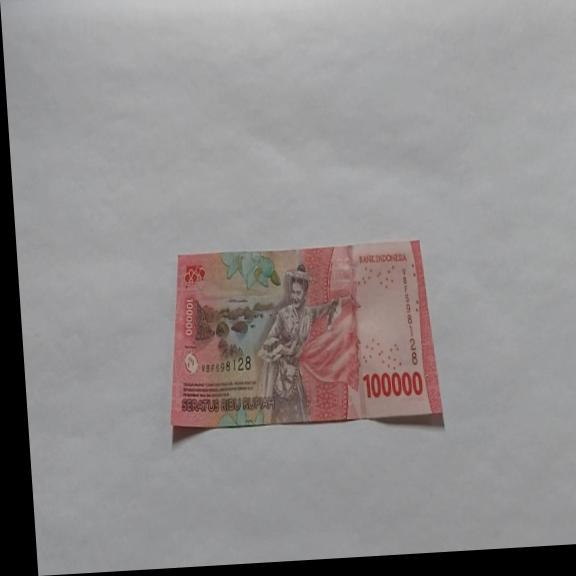Kertas: (159, 236, 443, 440), (362, 367, 424, 401)
